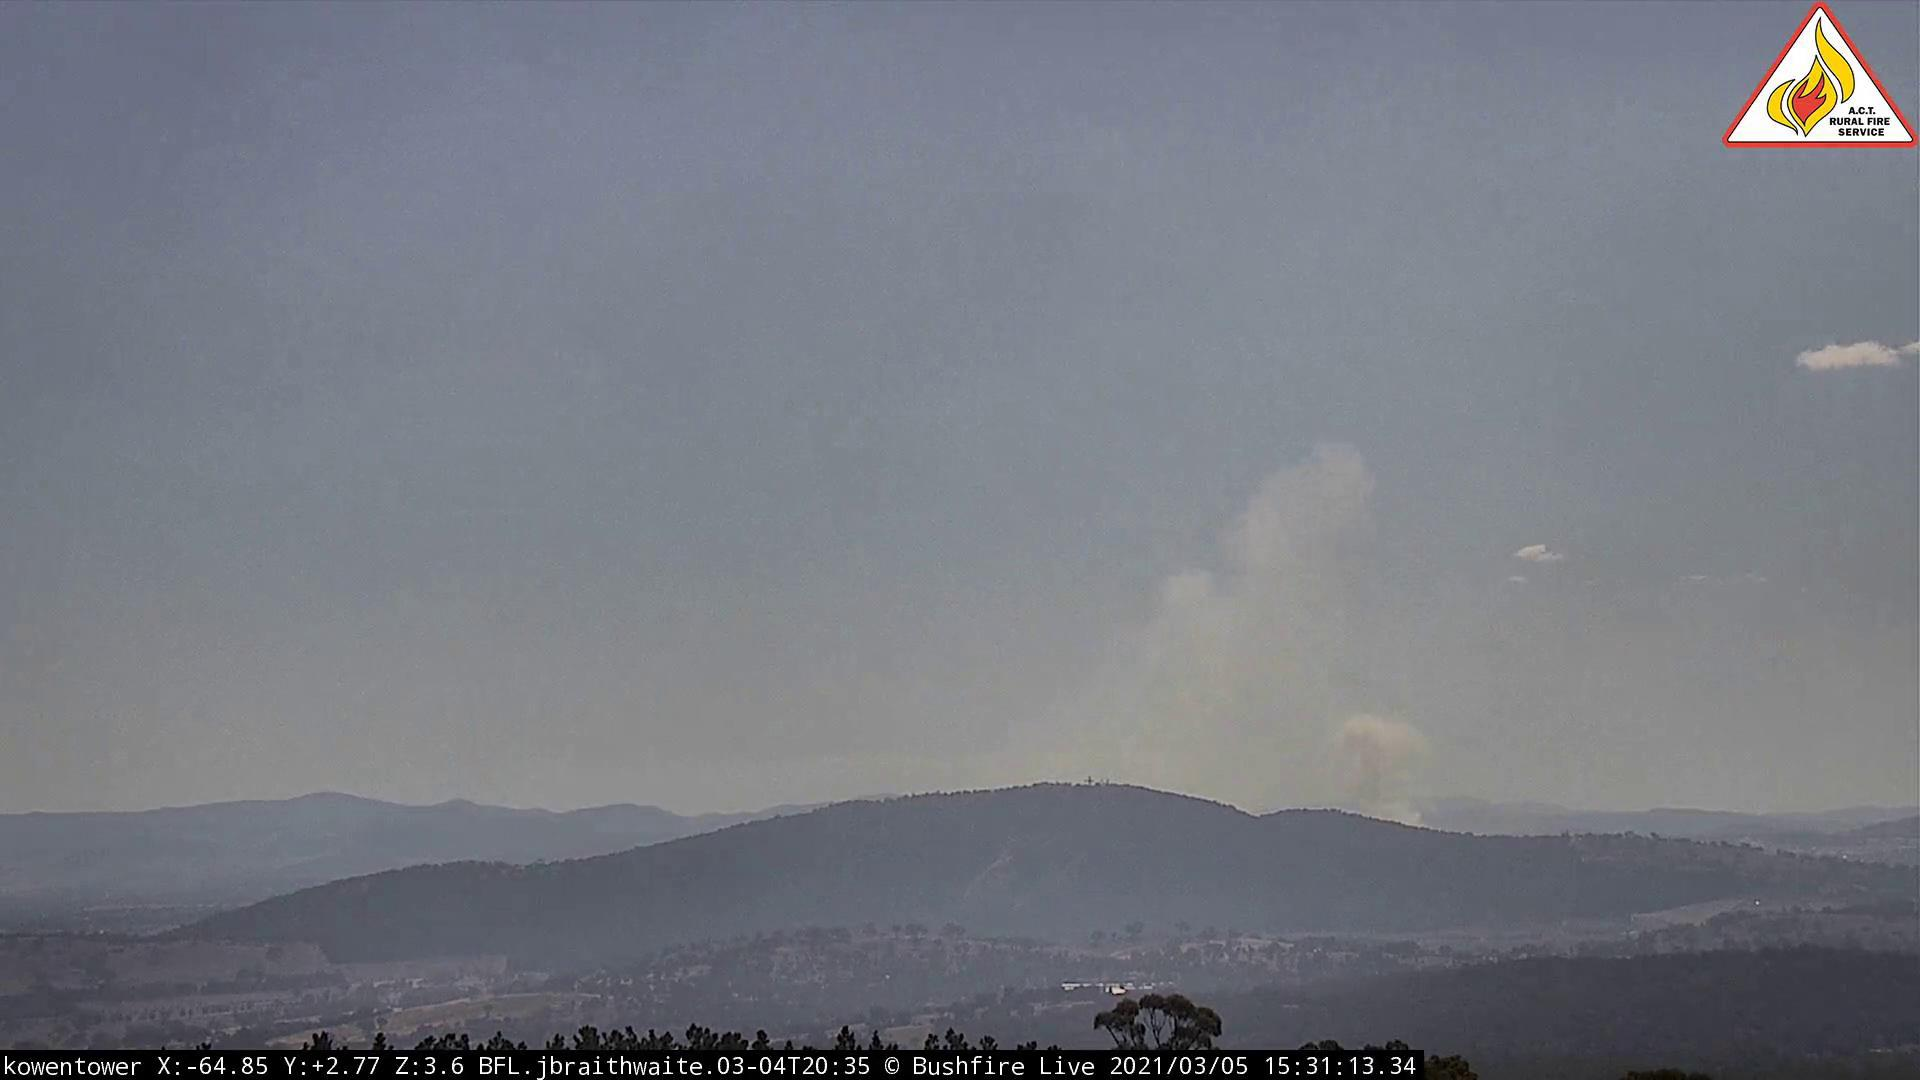Smoke: (1006, 423, 1465, 847)
